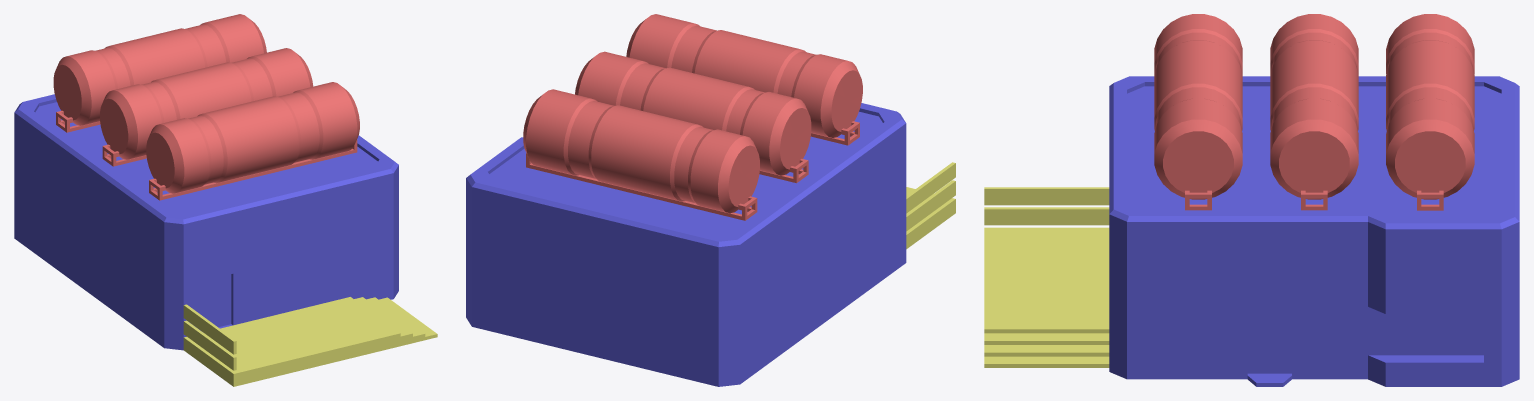
Rendered from SM_Warehouse.fbx.
3 renders of one model, left to right at view 1: azimuth 30°, elevation 25°; view 2: azimuth 150°, elevation 25°; view 3: azimuth 270°, elevation 25°, orthographic. The views are drawn at different scales.
Visible parts, largest first — view 1: SM_Warehouse3; view 2: SM_Warehouse3; view 3: SM_Warehouse3.
Boxes of the visible parts, x1,y1,x2,y2 form: SM_Warehouse3: (14,14,437,386); SM_Warehouse3: (466,14,955,386); SM_Warehouse3: (984,14,1519,386).
Size of the model in its own units: 400 by 298 by 600.
